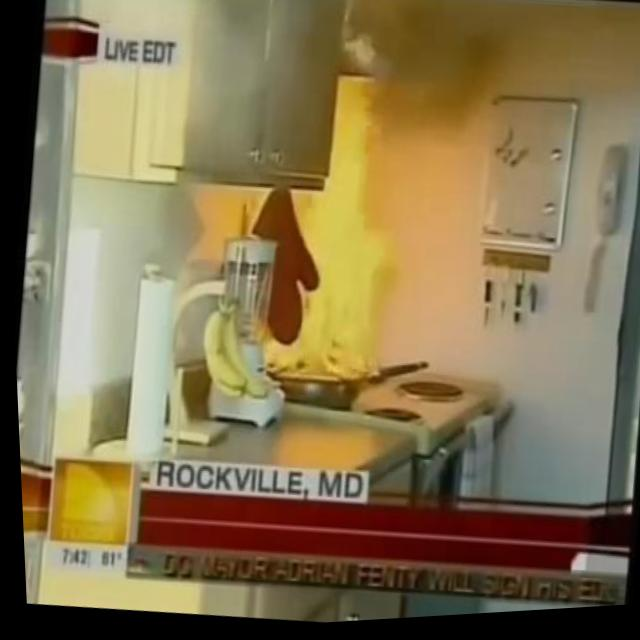fire: (231, 64, 420, 392)
